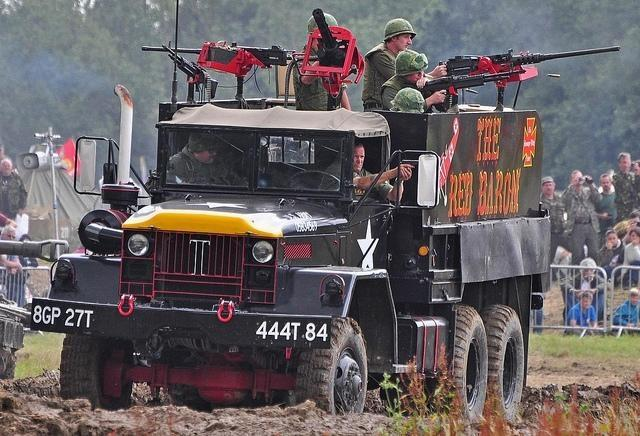truck: (29, 102, 554, 428)
